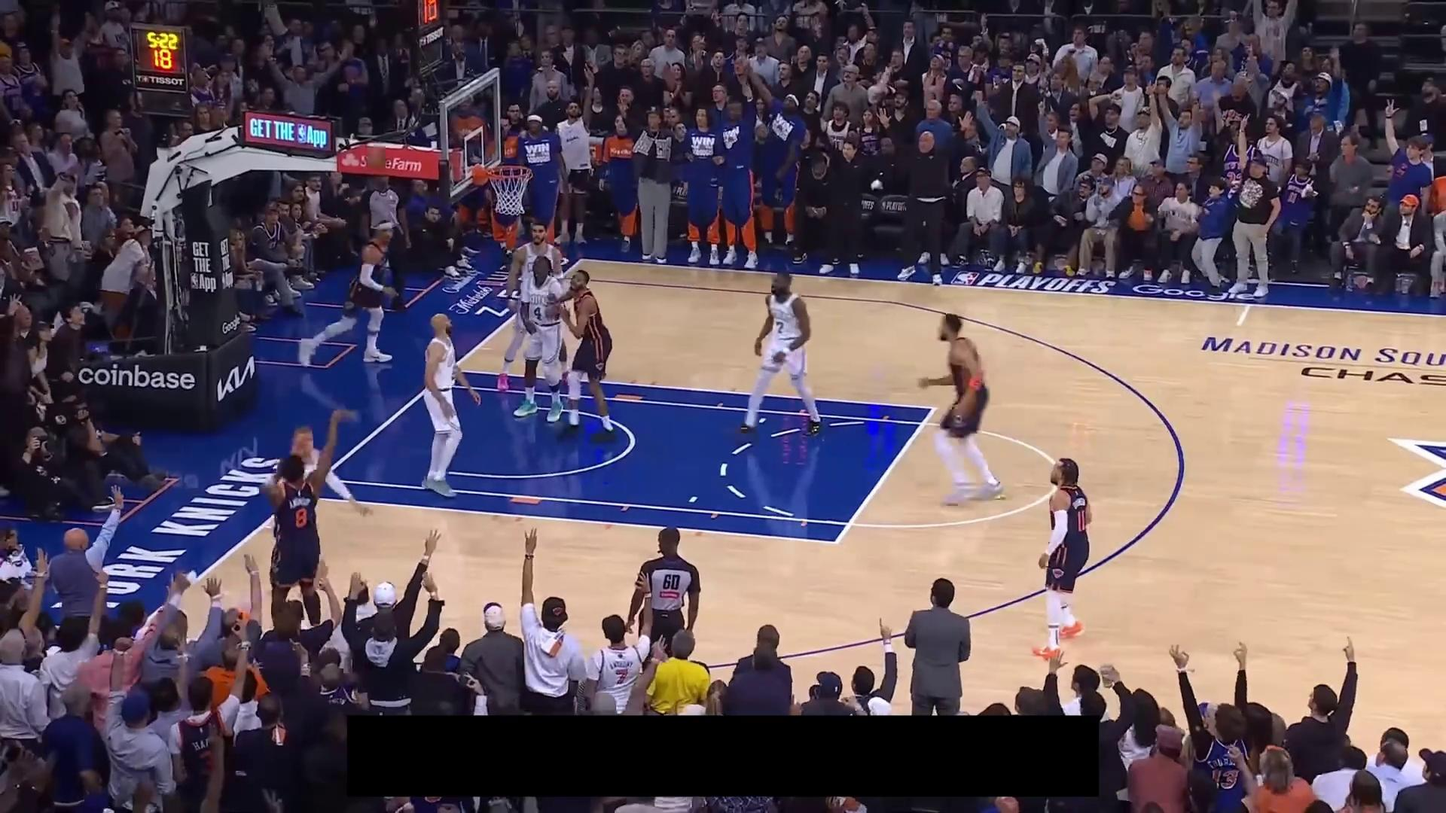ball: (364, 146, 387, 168)
number: (292, 507, 309, 529), (1075, 507, 1086, 533), (774, 319, 786, 336), (534, 305, 543, 320)
player: (258, 404, 363, 628), (918, 313, 1007, 508), (279, 422, 377, 599), (296, 217, 397, 367), (736, 269, 825, 438), (1027, 455, 1094, 662), (495, 217, 574, 392), (418, 311, 486, 497), (548, 267, 620, 442), (513, 254, 571, 424)
referee: (622, 524, 701, 663), (356, 176, 416, 309)
rim: (486, 164, 534, 179)
